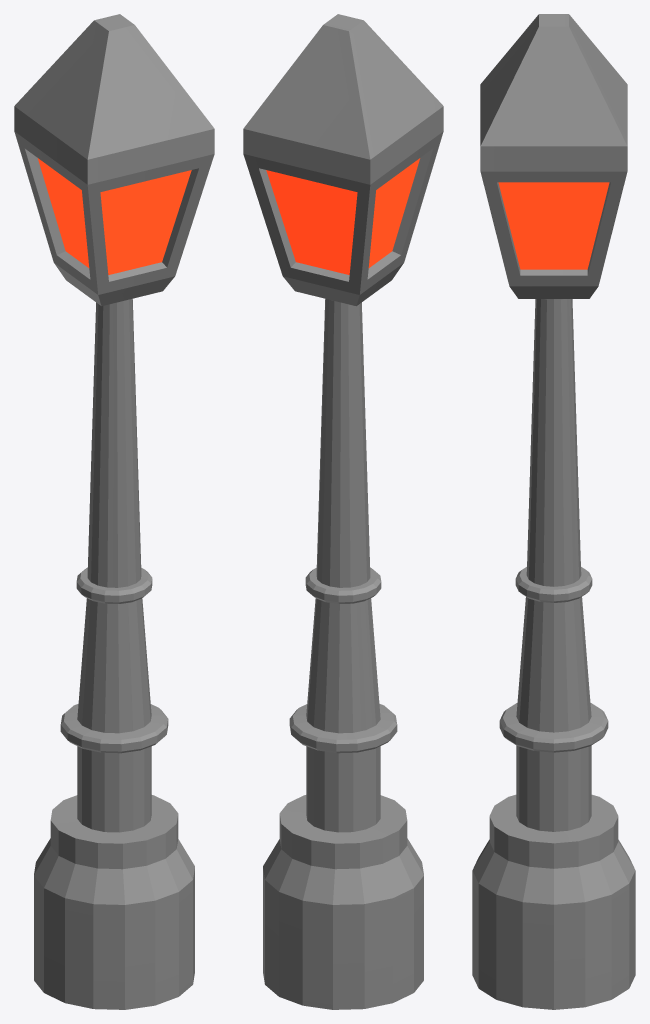
The model's file is StreetLamb.fbx.
3 renders of one model, left to right at view 1: azimuth 30°, elevation 25°; view 2: azimuth 150°, elevation 25°; view 3: azimuth 270°, elevation 25°, orthographic.
Visible parts, largest first — view 1: Base, LambHead, Light; view 2: Base, LambHead, Light; view 3: Base, LambHead, Light.
Boxes of the visible parts, x1=… form: Base: x1=34, y1=299, x2=194, y2=1009; LambHead: x1=14, y1=14, x2=214, y2=306; Light: x1=37, y1=158, x2=191, y2=274; Base: x1=263, y1=299, x2=423, y2=1009; LambHead: x1=243, y1=14, x2=443, y2=306; Light: x1=266, y1=158, x2=420, y2=274; Base: x1=472, y1=299, x2=635, y2=1009; LambHead: x1=480, y1=14, x2=627, y2=298; Light: x1=498, y1=182, x2=609, y2=269.
Bounding box in the file's own units: 0.507 × 3.28 × 0.507.
1 material, 1 textured.
